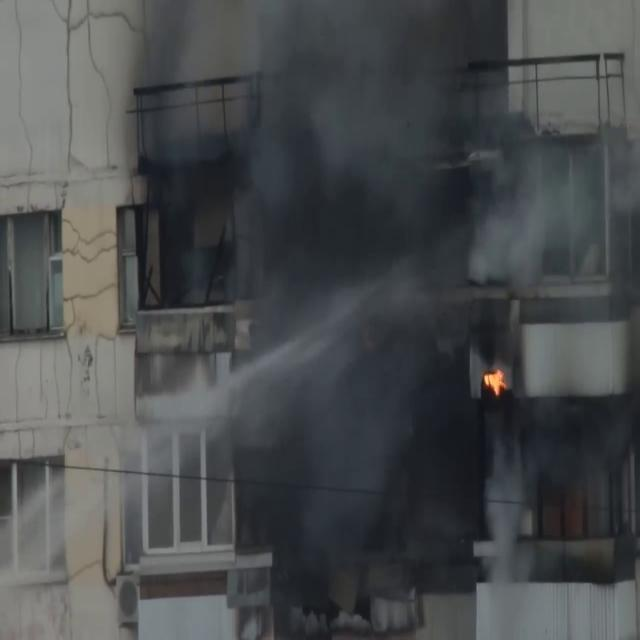Fire: (480, 358, 510, 402)
Smoke: (114, 1, 622, 574)
